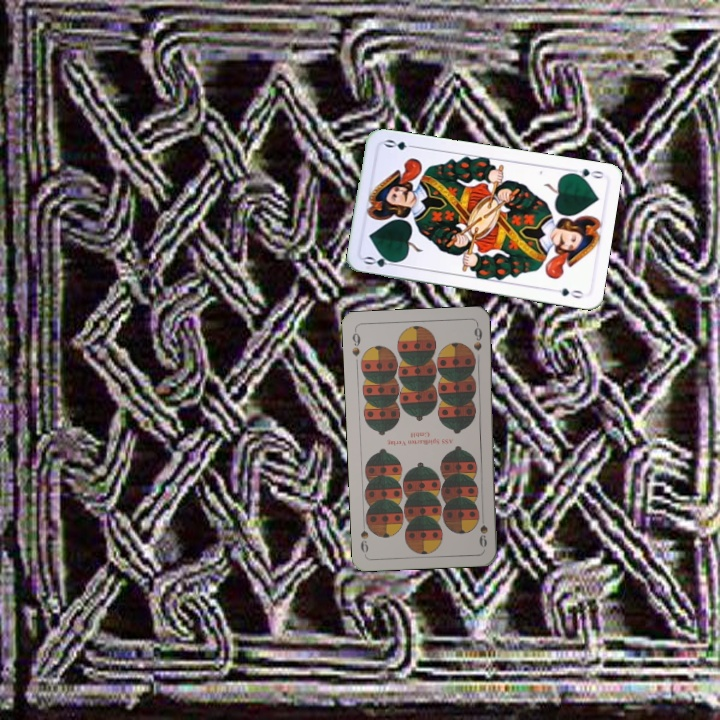GO: (565, 164, 606, 183), (360, 252, 402, 270)
S9: (475, 509, 490, 550), (348, 326, 363, 359)
